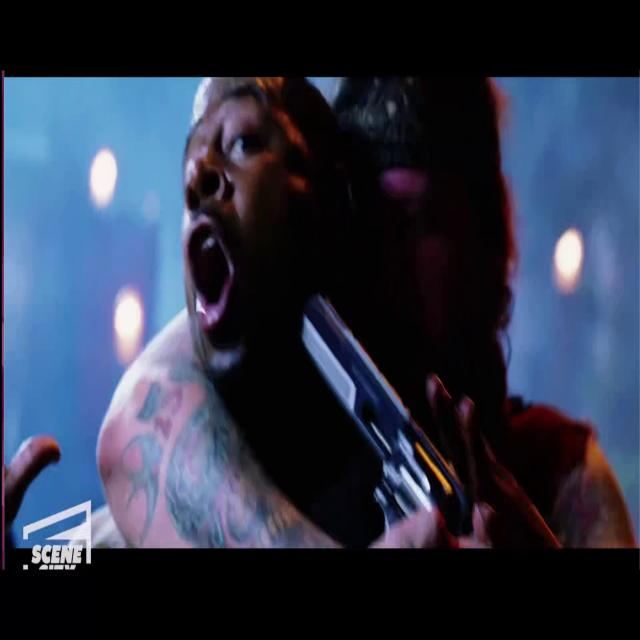weapons: (278, 260, 487, 548)
